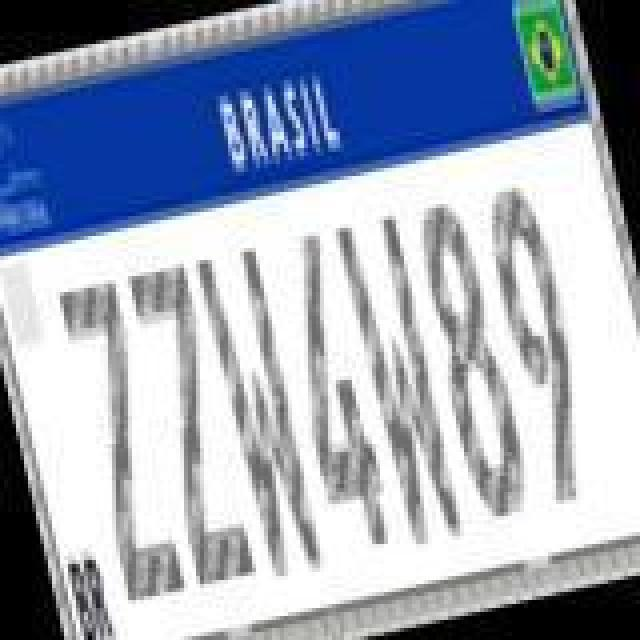4: (262, 226, 394, 558)
8: (404, 194, 540, 526)
9: (476, 176, 612, 512)
W: (330, 208, 470, 560), (196, 240, 332, 584)
Z: (52, 272, 188, 608), (124, 256, 260, 592)
